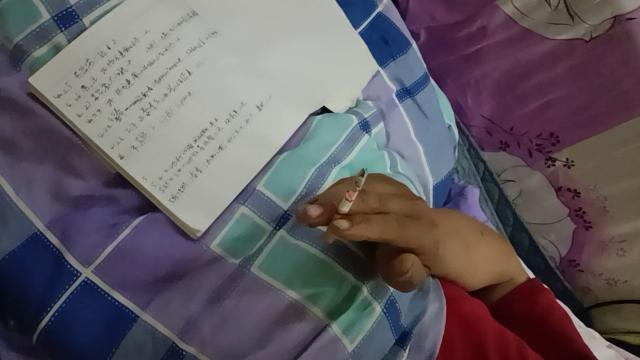Smoking: (322, 168, 368, 244)
